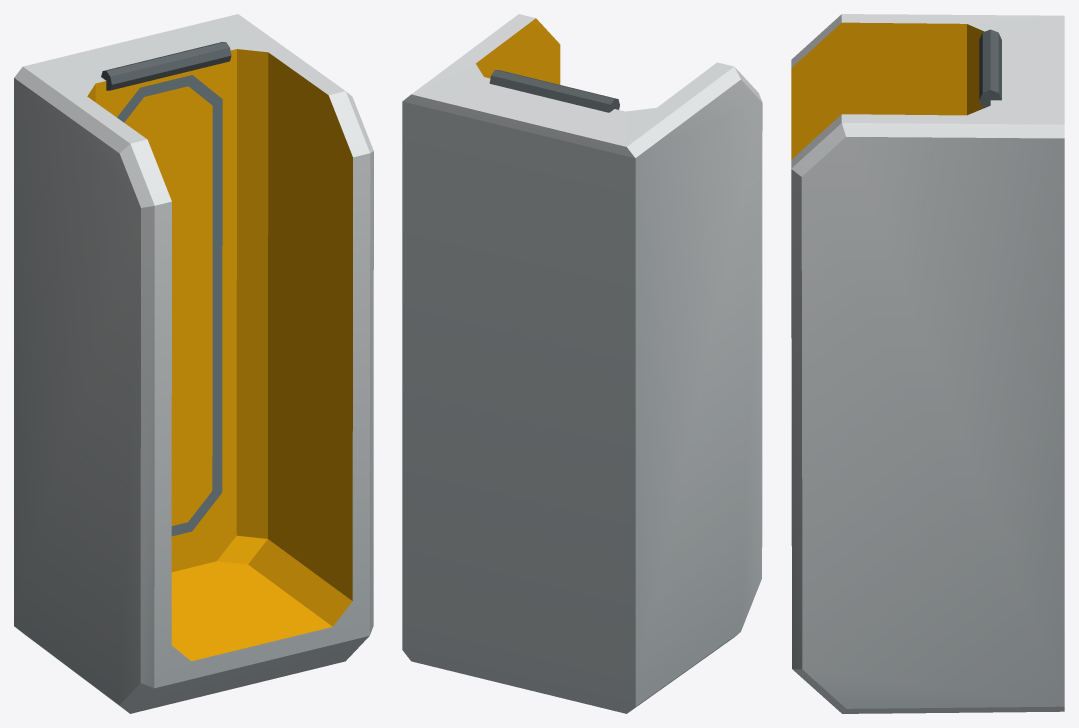
The model's file is Capsule_001_body_001.fbx.
3 views of the same model, side by side, from view 1: azimuth 30°, elevation 25°; view 2: azimuth 150°, elevation 25°; view 3: azimuth 270°, elevation 25° (orthographic). The views are drawn at different scales.
Parts seen in each view (by area): view 1: Сapsule_001_body_001; view 2: Сapsule_001_body_001; view 3: Сapsule_001_body_001.
Part boxes in pixels (x1=…): Сapsule_001_body_001: x1=14, y1=14, x2=373, y2=713; Сapsule_001_body_001: x1=402, y1=14, x2=762, y2=713; Сapsule_001_body_001: x1=791, y1=14, x2=1064, y2=713.
Size of the model in its own units: 80 by 78.53 by 190.
